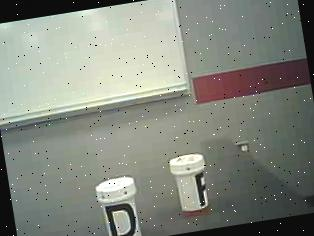Bottle D: (90, 170, 147, 236)
Bottle F: (163, 147, 218, 222)
